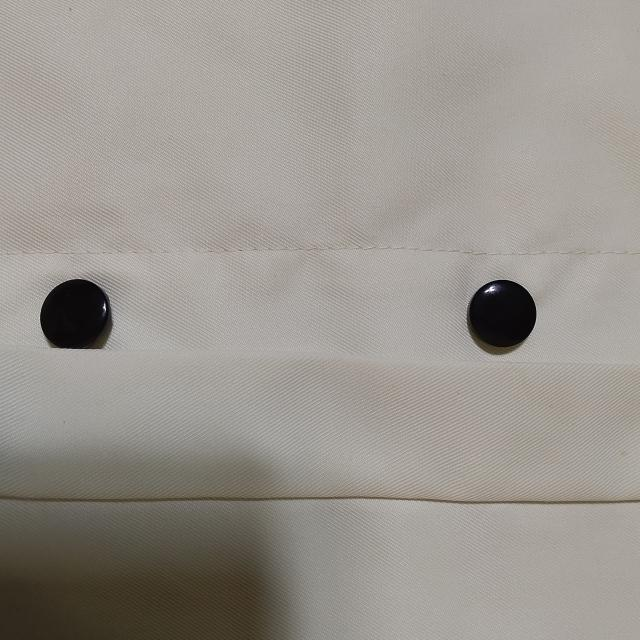education_male_uniform: (31, 143, 210, 450)
